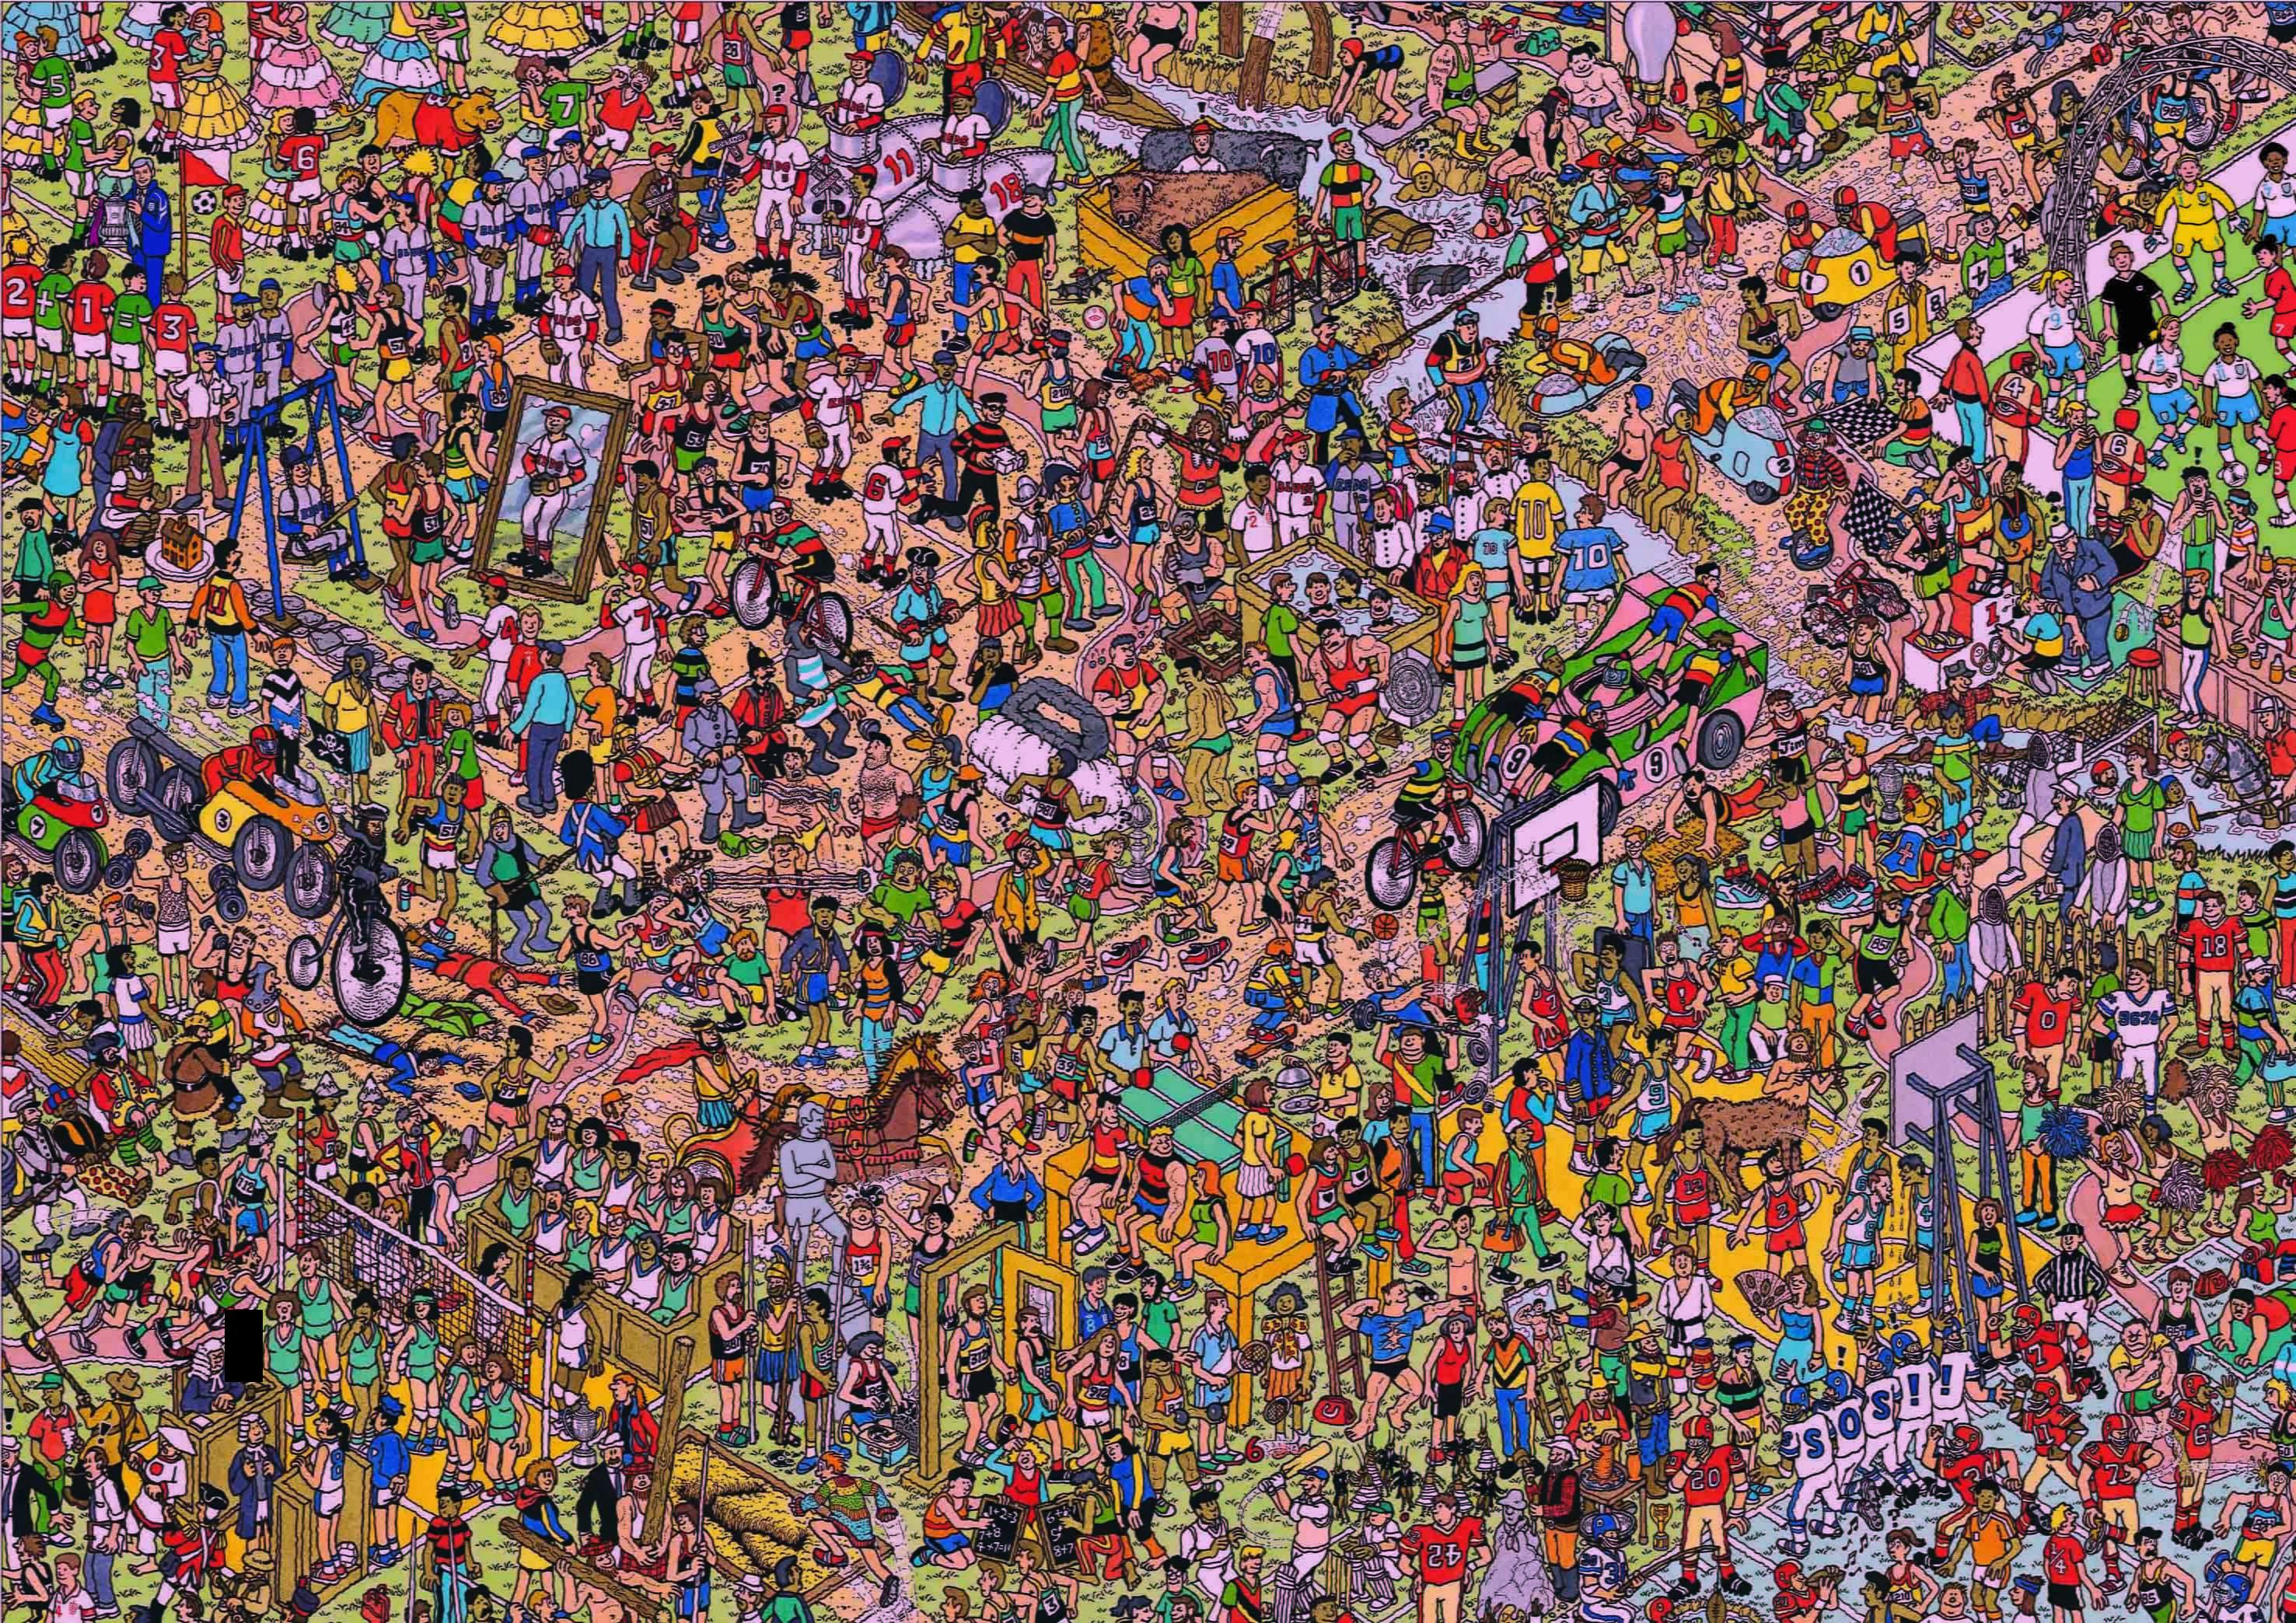waldos: (1010, 2, 1049, 74)
